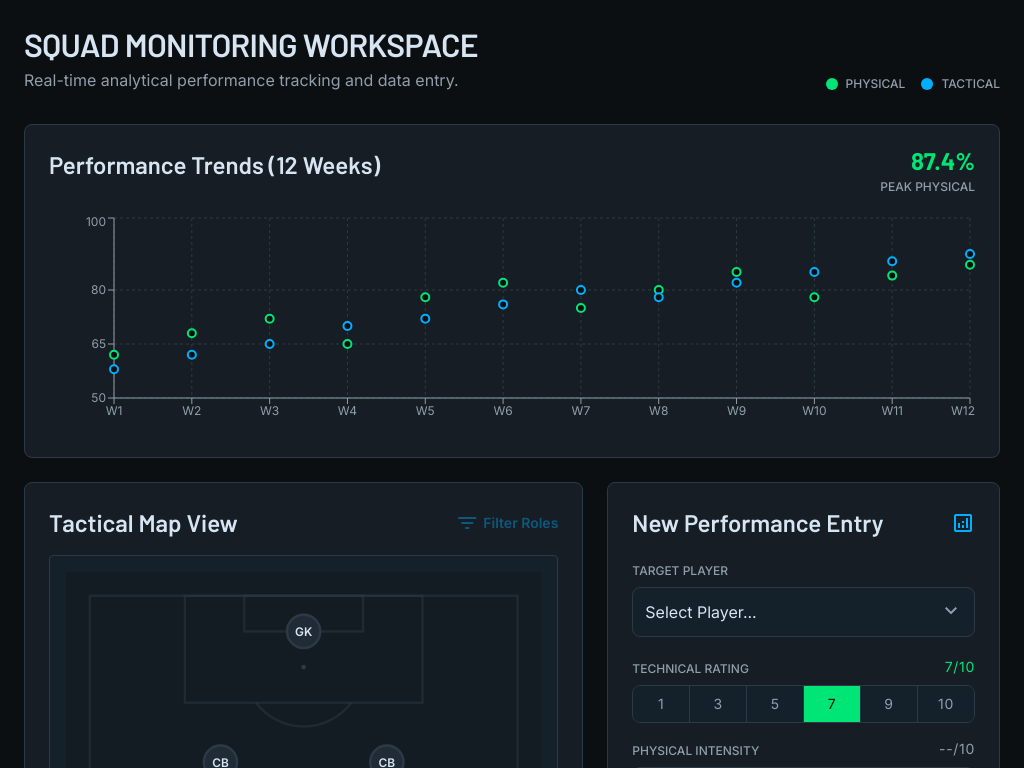
Test: CoachDashboard performans formu › tamamlanan girdide ortalamayi hesaplayip formu sifirlar
Select "K. Arslan (CM) - #08" in the dropdown labelled "Target Player" at (804, 612), box [632,587,975,637]
(page scrolled)
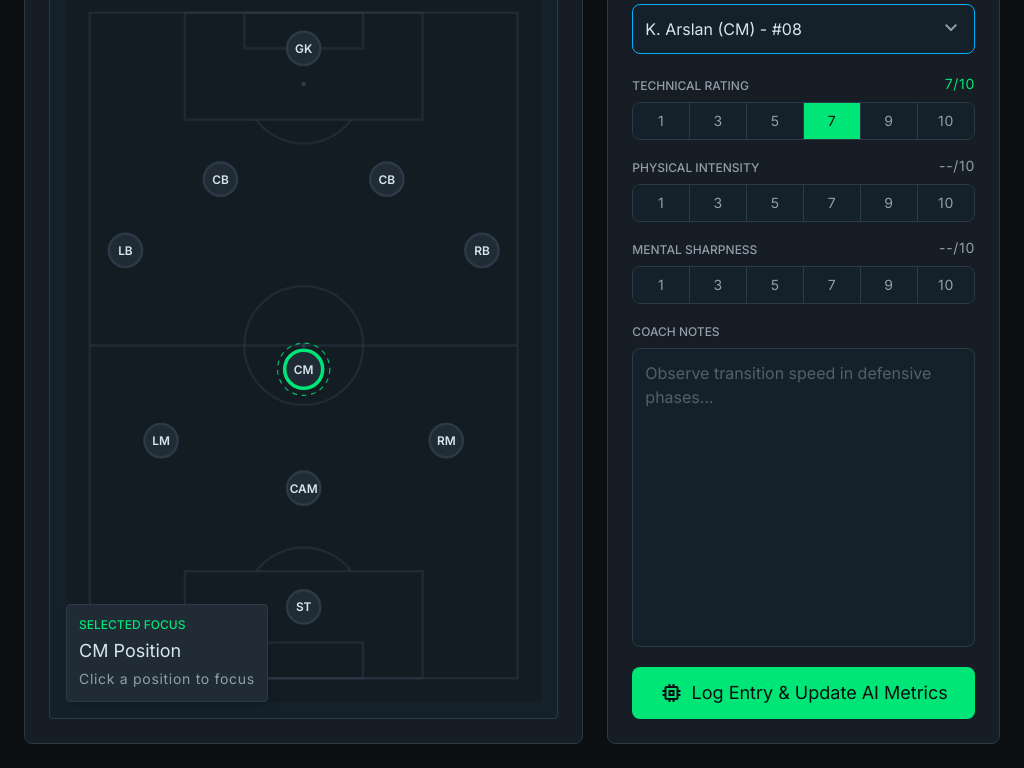
Type "Gecis hizi iyi." into the text box labelled "Coach Notes" at (804, 498), box [632,348,975,647]
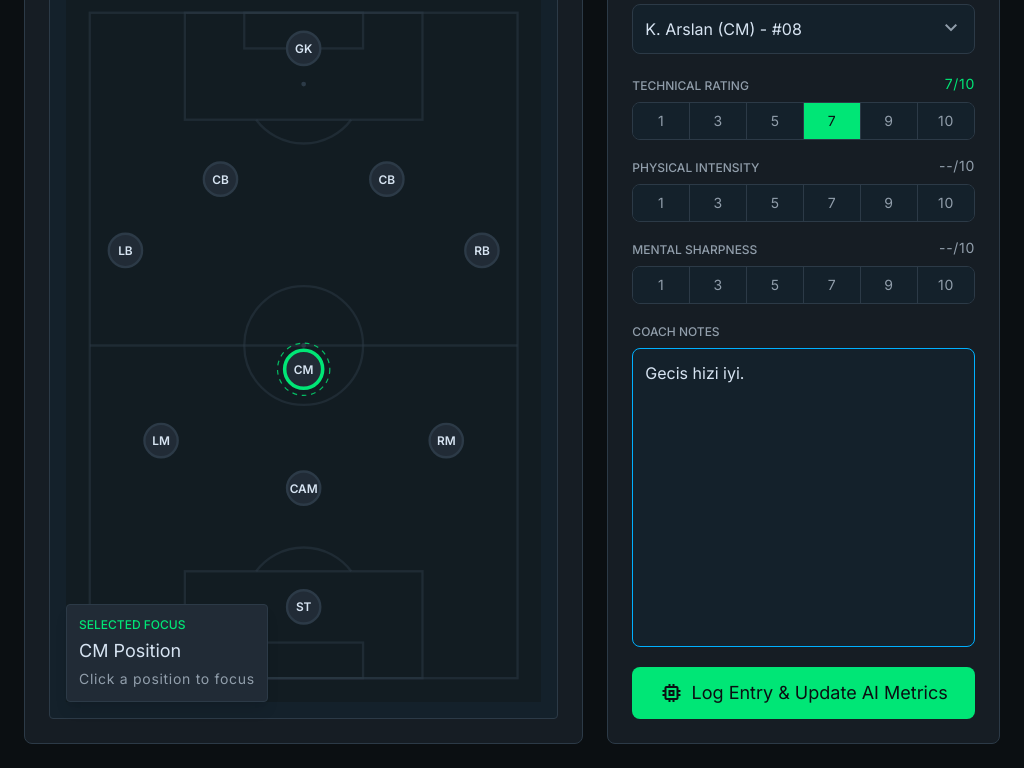
Click the button "7" below "Physical Intensity" at (833, 203), box [804,185,861,221]
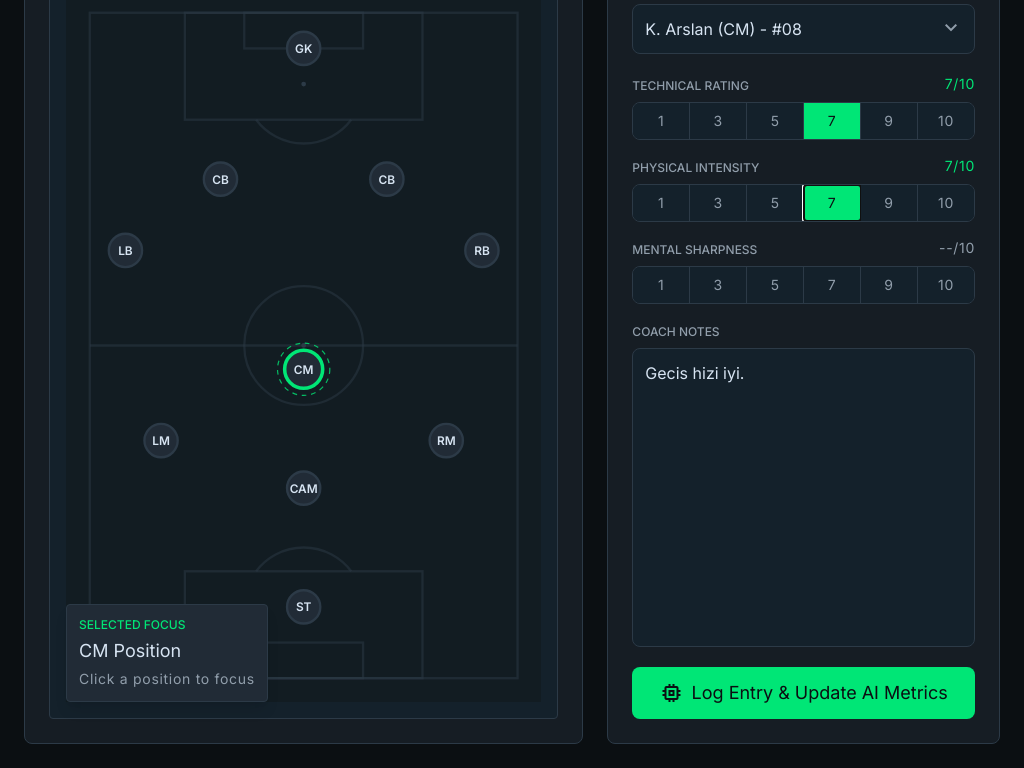
Click the button "7" below "Mental Sharpness" at (833, 285), box [804,267,861,303]
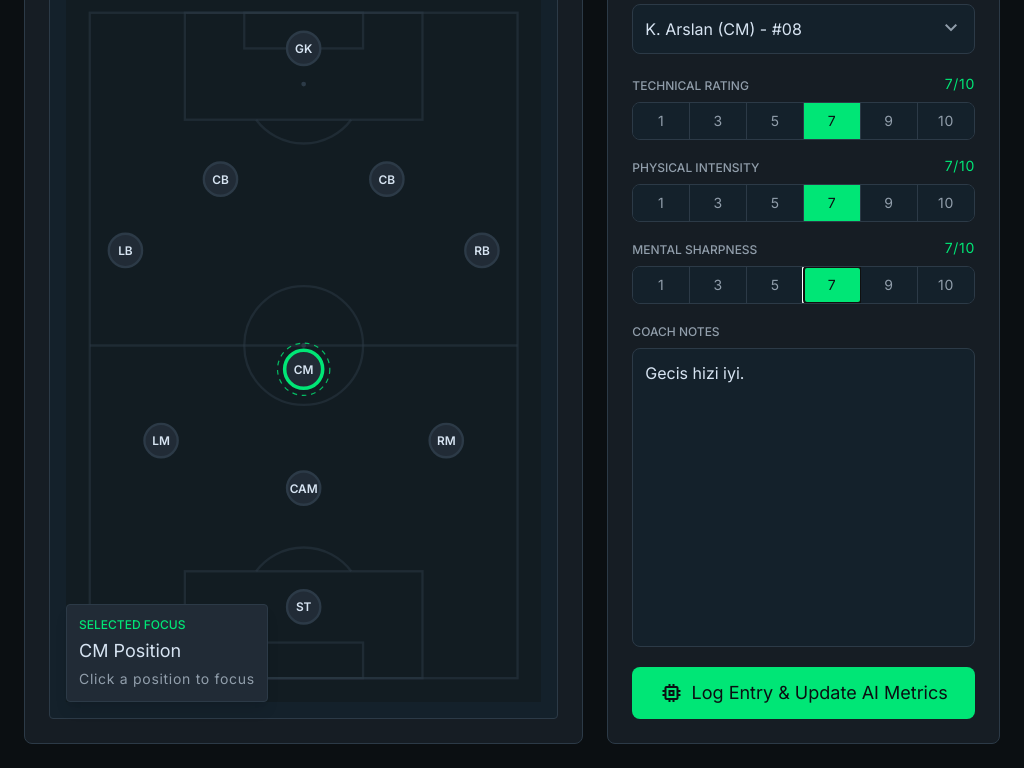
Click the button "Log Entry & Update AI Metrics" at (804, 693), box [632,667,975,719]
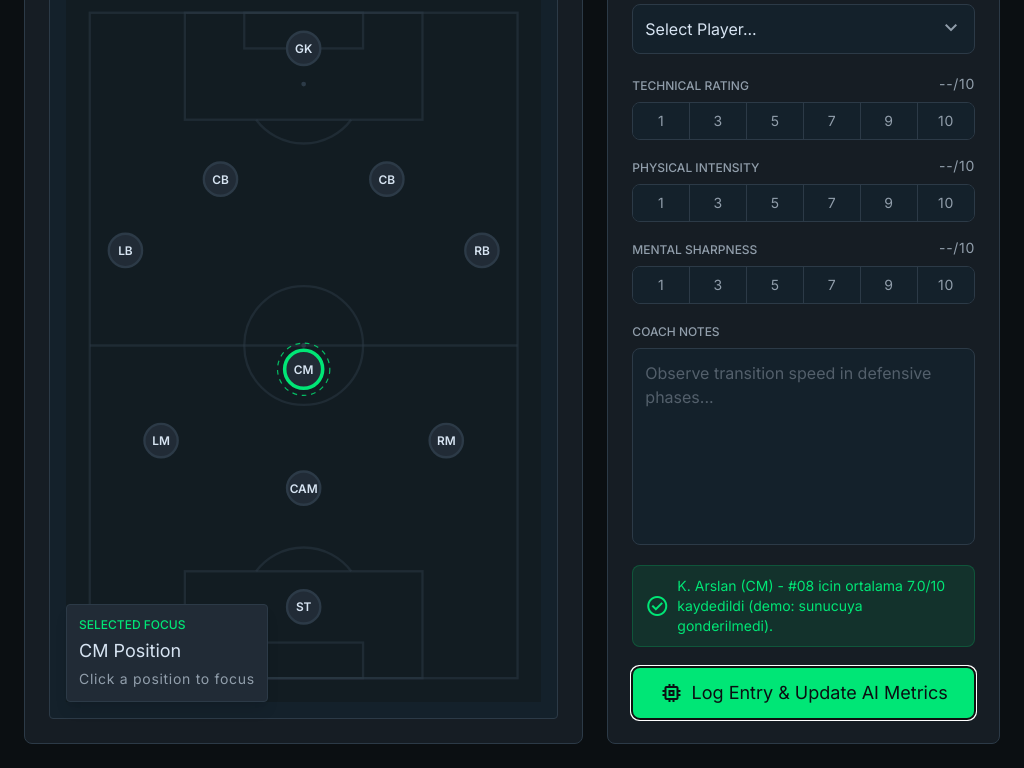
Expected: the message shows "K. Arslan (CM) - #08", [677,577,945,634]
Expected: the message shows "7.0/10", [677,577,945,634]
Expected: the text box labelled "Coach Notes" is empty, [632,348,975,545]
